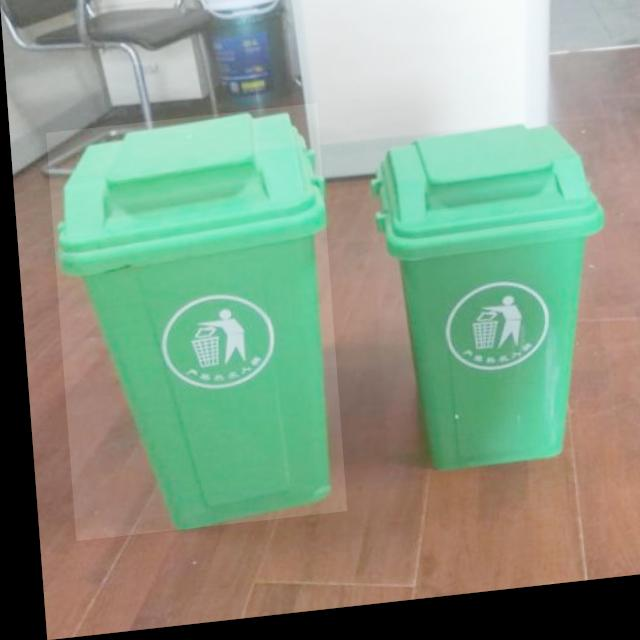garbage_bin: (44, 110, 339, 542), (362, 128, 611, 485)
